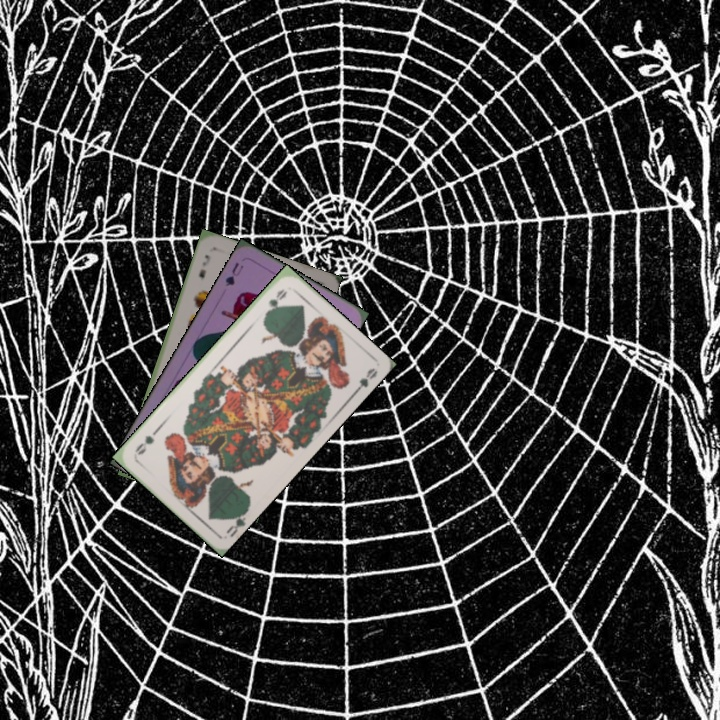E7: (194, 251, 213, 281)
GO: (261, 284, 290, 319), (222, 504, 251, 539)
GU: (221, 258, 246, 290)
